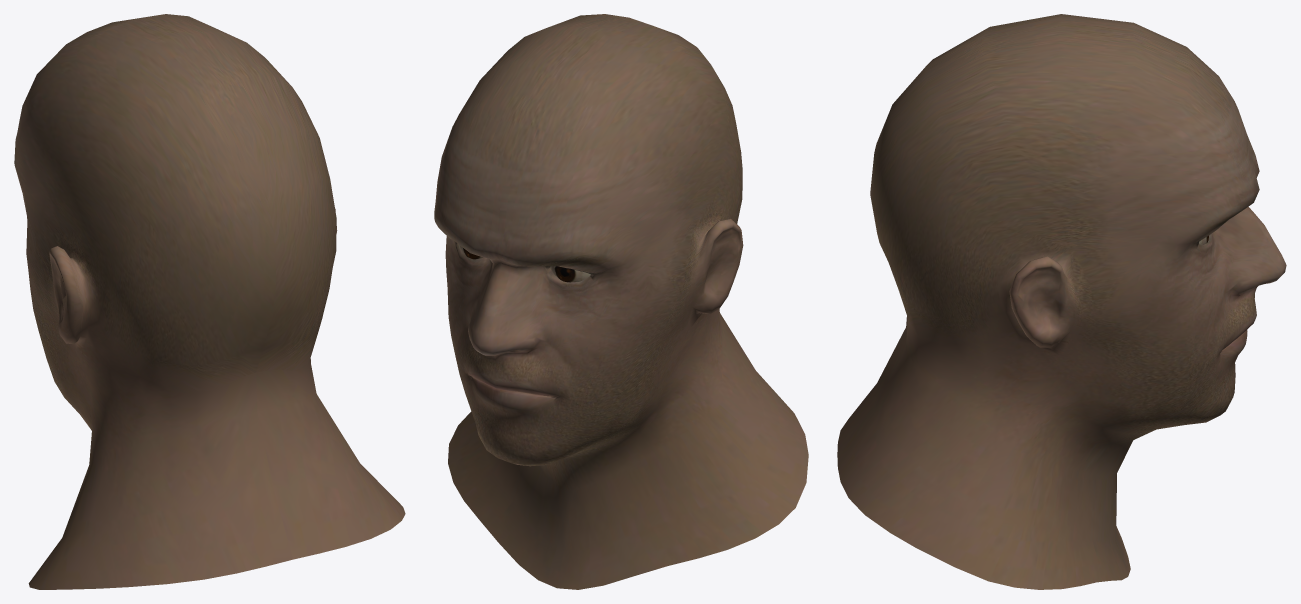
File: G3_Head_Hero_Myrtana_Animated_05_S27.obj
3 views of the same model, side by side, from view 1: azimuth 30°, elevation 25°; view 2: azimuth 150°, elevation 25°; view 3: azimuth 270°, elevation 25° (orthographic). The views are drawn at different scales.
Visible parts, largest first — view 1: G3_Animation_Head_Main_05; view 2: G3_Animation_Head_Main_05; view 3: G3_Animation_Head_Main_05.
Part boxes in pixels (left/top/right/bottom): G3_Animation_Head_Main_05: left=14, top=14, right=405, bottom=589; G3_Animation_Head_Main_05: left=434, top=14, right=808, bottom=589; G3_Animation_Head_Main_05: left=837, top=14, right=1286, bottom=589.
Size of the model in its own units: 0.2312 by 0.3482 by 0.2618.
